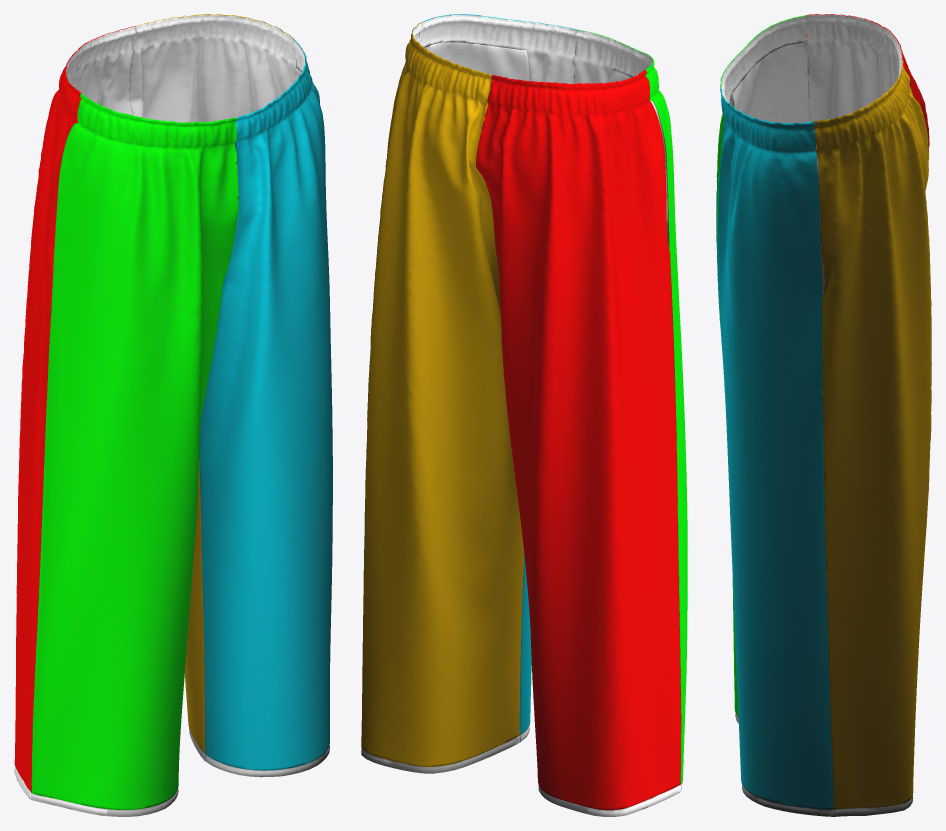
File: Pants.glb
3 renders of one model, left to right at view 1: azimuth 30°, elevation 25°; view 2: azimuth 150°, elevation 25°; view 3: azimuth 270°, elevation 25°, orthographic. The views are drawn at different scales.
Parts seen in each view (by area): view 1: 11Wide-LegPants; view 2: 11Wide-LegPants; view 3: 11Wide-LegPants.
Boxes of the visible parts, x1,y1,x2,y2 form: 11Wide-LegPants: (14,14,332,816); 11Wide-LegPants: (361,14,687,816); 11Wide-LegPants: (716,14,931,816).
Bounding box in the file's own units: 0.4376 × 1.02 × 0.2859.
1 material, 1 textured.
